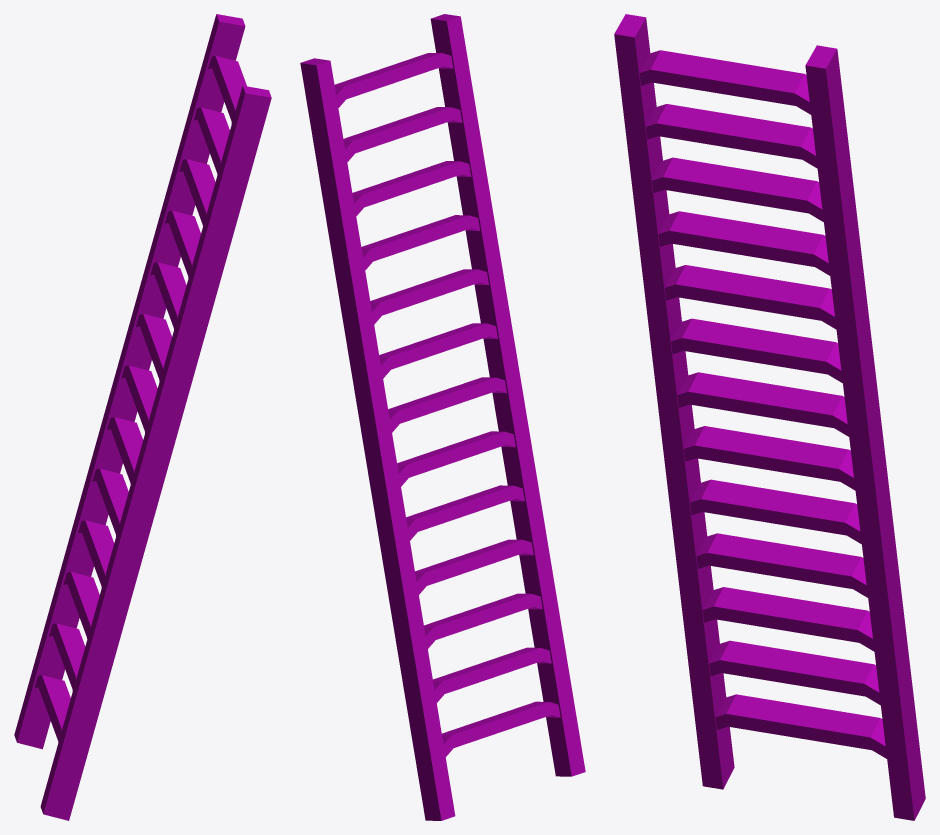
File: Ladder.fbx
3 views of the same model, side by side, from view 1: azimuth 30°, elevation 25°; view 2: azimuth 150°, elevation 25°; view 3: azimuth 270°, elevation 25° (orthographic). The views are drawn at different scales.
Visible parts, largest first — view 1: Ladder; view 2: Ladder; view 3: Ladder.
Boxes of the visible parts, x1,y1,x2,y2 form: Ladder: (14, 14, 271, 820); Ladder: (300, 14, 585, 820); Ladder: (614, 14, 925, 820).
Size of the model in its own units: 1.86 by 5.16 by 1.7.
